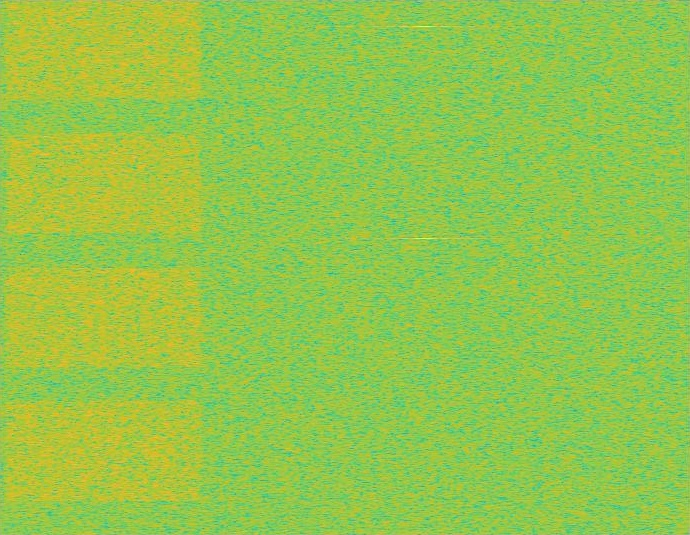5G: (0, 0, 207, 534)
Radar: (418, 0, 432, 534)
